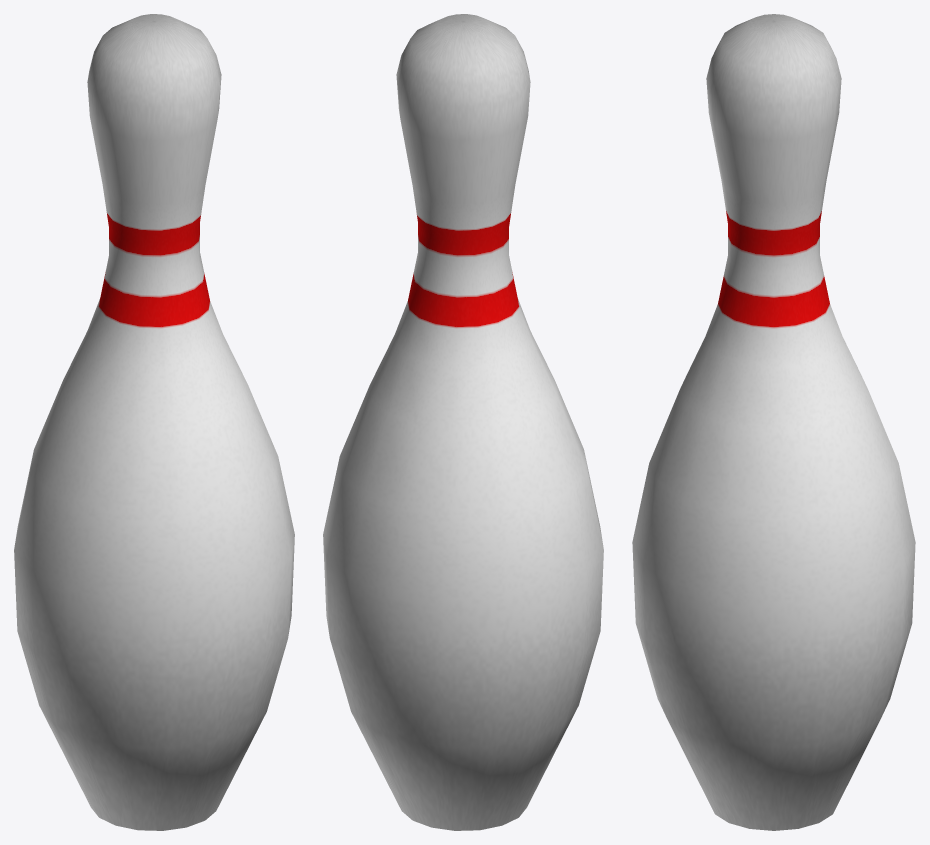
File: Pin.fbx
3 renders of one model, left to right at view 1: azimuth 30°, elevation 25°; view 2: azimuth 150°, elevation 25°; view 3: azimuth 270°, elevation 25°, orthographic.
Visible parts, largest first — view 1: Empty_Mesh; view 2: Empty_Mesh; view 3: Empty_Mesh.
Boxes of the visible parts, x1,y1,x2,y2 form: Empty_Mesh: (14, 14, 294, 830); Empty_Mesh: (323, 14, 603, 830); Empty_Mesh: (632, 14, 915, 830).
Size of the model in its own units: 0.1249 by 0.3807 by 0.1249.
